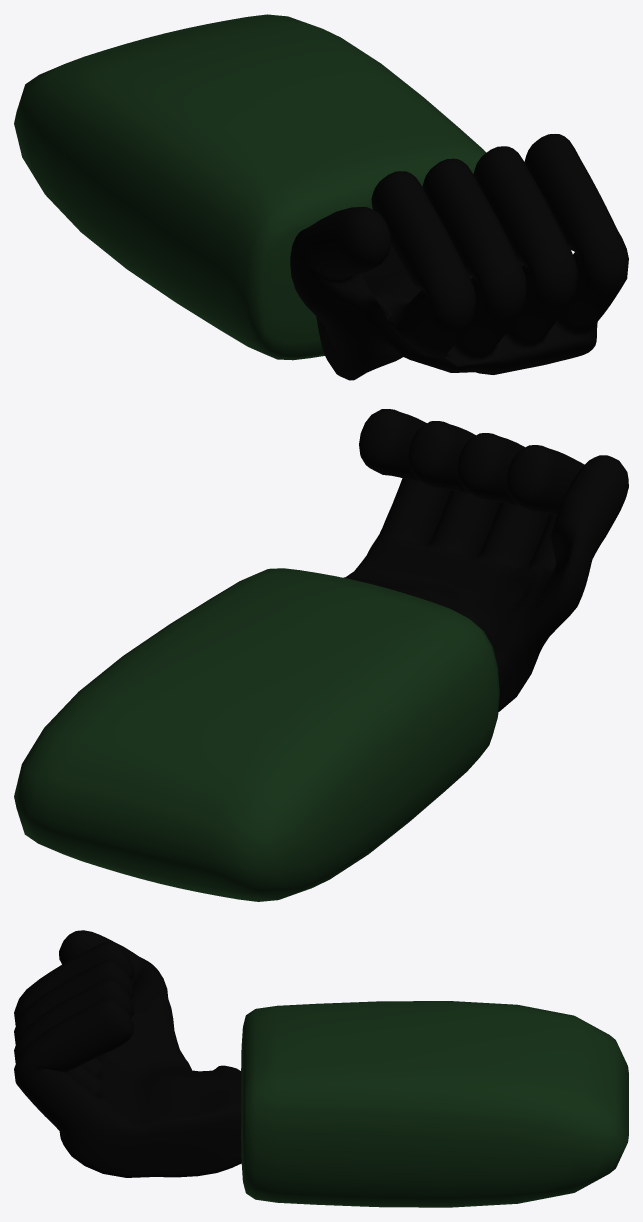
File: Hand_2.fbx
3 renders of one model, top to bottom at view 1: azimuth 30°, elevation 25°; view 2: azimuth 150°, elevation 25°; view 3: azimuth 270°, elevation 25°, orthographic. The views are drawn at different scales.
Visible parts, largest first — view 1: Cube; view 2: Cube; view 3: Cube.
Part boxes in pixels (<box>): Cube: <box>14,14,628,380</box>; Cube: <box>14,409,628,901</box>; Cube: <box>14,930,628,1207</box>.
Size of the model in its own units: 195 by 166 by 451.
